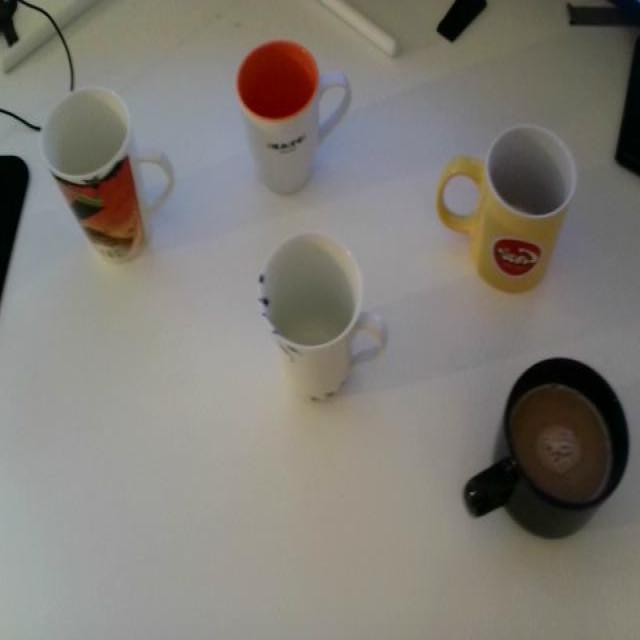cup: (439, 337, 640, 554), (31, 73, 181, 272), (426, 113, 578, 305), (248, 230, 396, 406), (213, 30, 362, 194)
